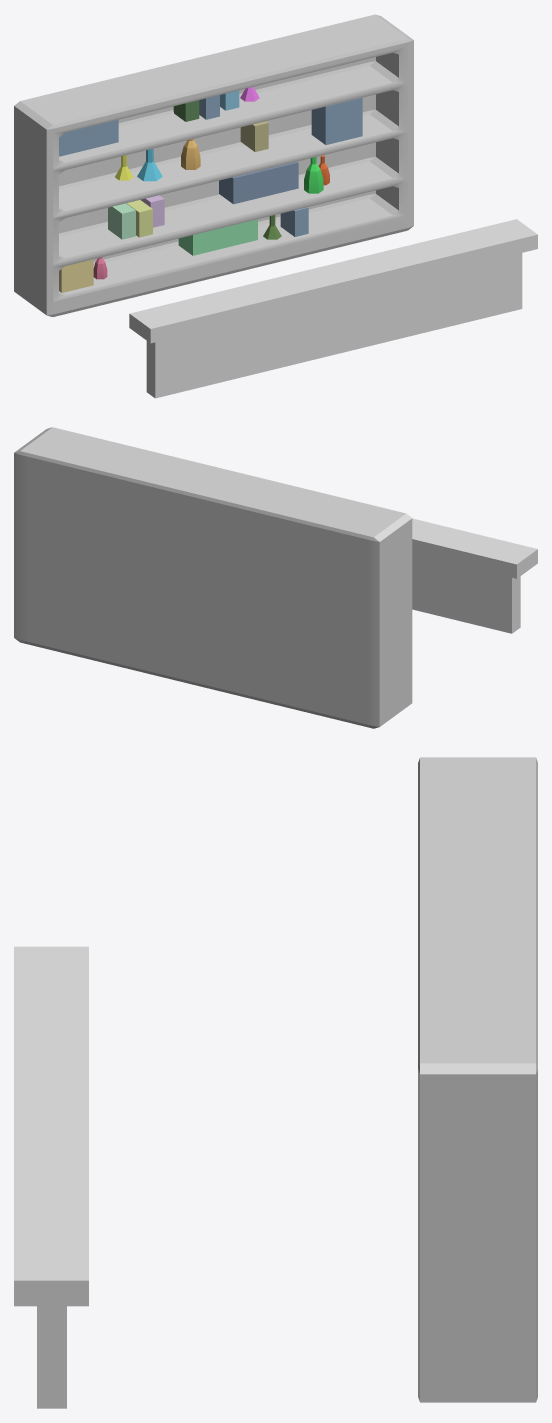
The model's file is apotheke_theke+regal.fbx.
3 views of the same model, one above another, from view 1: azimuth 30°, elevation 25°; view 2: azimuth 150°, elevation 25°; view 3: azimuth 270°, elevation 25° (orthographic). The views are drawn at different scales.
Visible parts, largest first — view 1: Cube.007, Cube.005; view 2: Cube.007, Cube.005; view 3: Cube.007, Cube.005.
Part boxes in pixels (<box>): Cube.007: <box>14,14,413,316</box>; Cube.005: <box>129,219,537,398</box>; Cube.007: <box>14,427,412,728</box>; Cube.005: <box>412,518,537,633</box>; Cube.007: <box>418,757,537,1402</box>; Cube.005: <box>14,946,88,1408</box>.
Bounding box in the file's own units: 1055 × 501 × 699.
